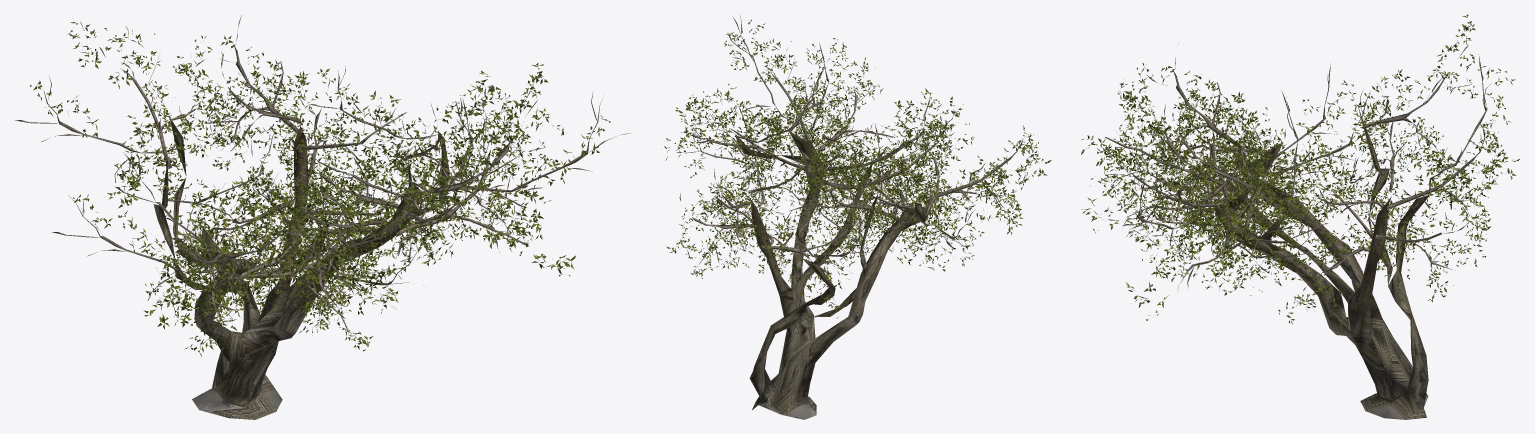
File: island_tree_02.glb
The picture shows the model from 3 angles, left to right: view 1: azimuth 30°, elevation 25°; view 2: azimuth 150°, elevation 25°; view 3: azimuth 270°, elevation 25°; orthographic projection. The views are drawn at different scales.
Parts seen in each view (by area): view 1: island_tree_02_LOD0; view 2: island_tree_02_LOD0; view 3: island_tree_02_LOD0.
Boxes of the visible parts, <box> form: island_tree_02_LOD0: <box>15,15,631,419</box>; island_tree_02_LOD0: <box>661,14,1051,419</box>; island_tree_02_LOD0: <box>1081,14,1519,419</box>.
Size of the model in its own units: 4.21 by 3.4 by 4.03.
3 materials, 3 textured.
